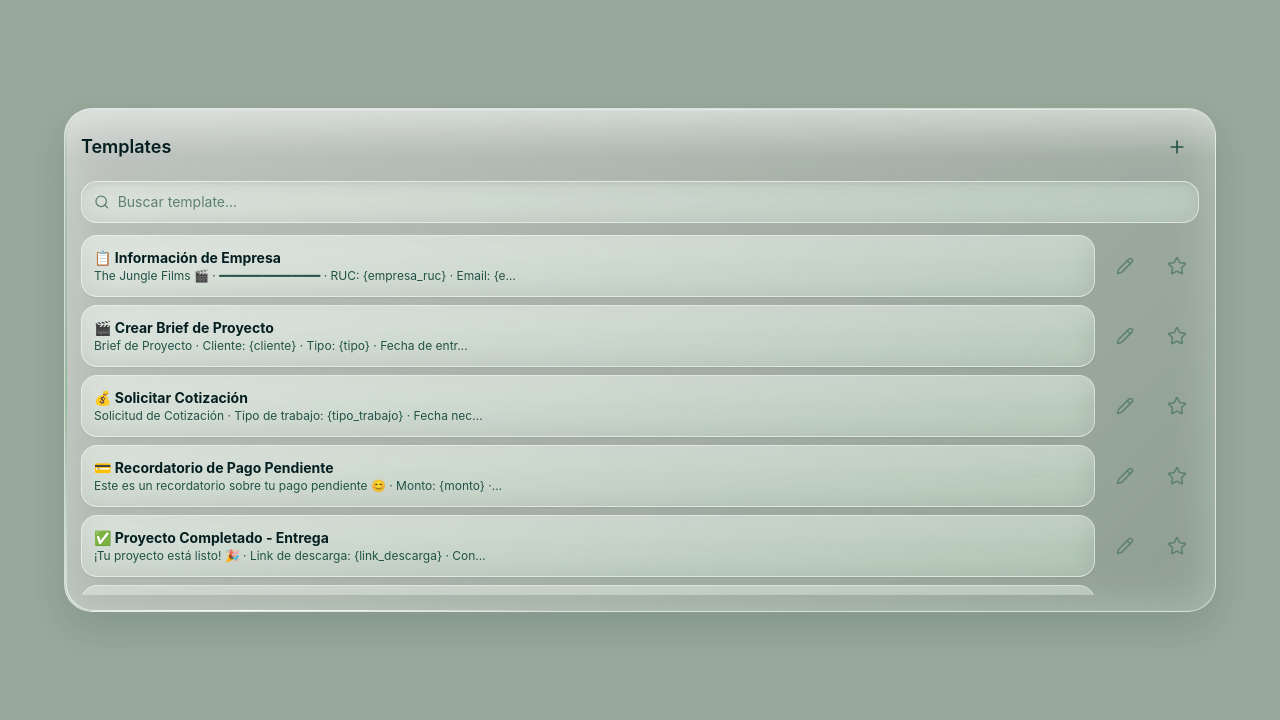
Test: TemplateListModal › filters by search query matching the name
The image size is (1280, 720).
In the field with placeholder "Buscar template...": (652, 202) x1=118 y1=192 x2=1186 y2=212, type "cotización"
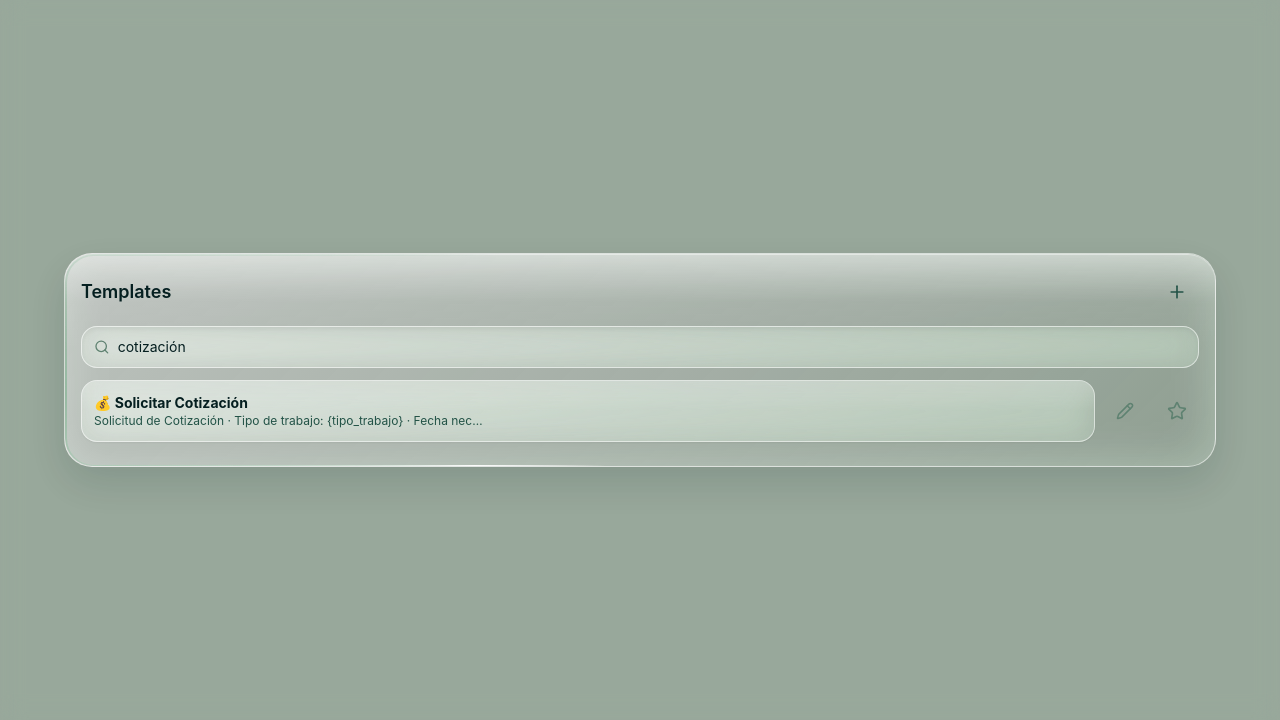
Expected: the text "💰 Solicitar Cotización" is shown, x1=94 y1=394 x2=248 y2=411
Now the button "Información de Empresa" is gone
